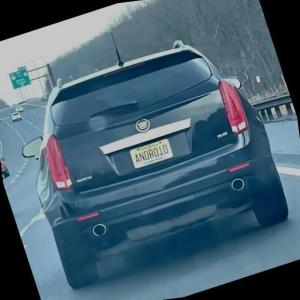Plate: (129, 137, 174, 169)
